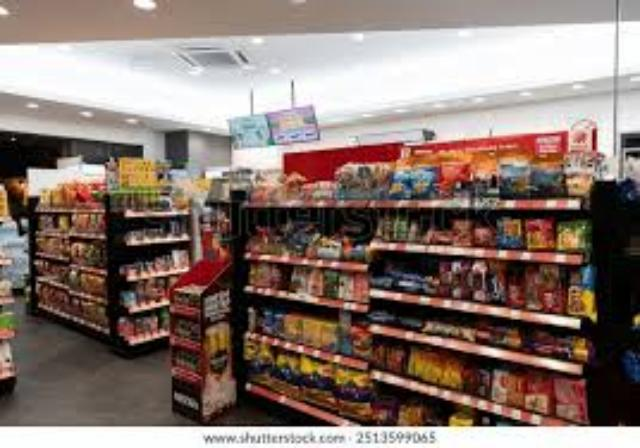background: (0, 0, 640, 426)
